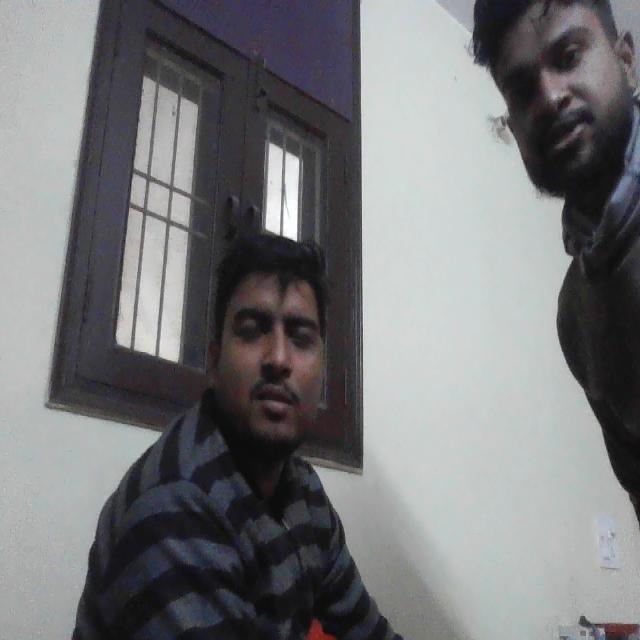real: (498, 0, 636, 260), (210, 219, 336, 456)
